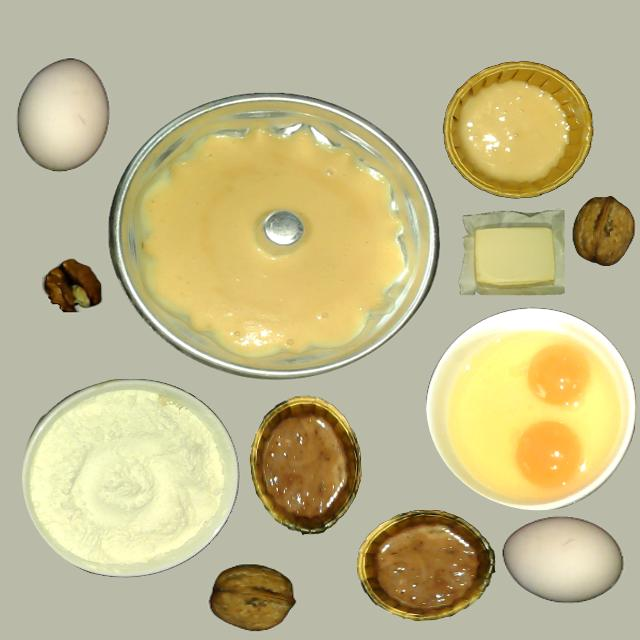Egg: (515, 421, 582, 487), (527, 344, 592, 406)
Flour: (23, 375, 245, 574), (22, 380, 235, 579)
Walnut: (572, 198, 634, 266)
